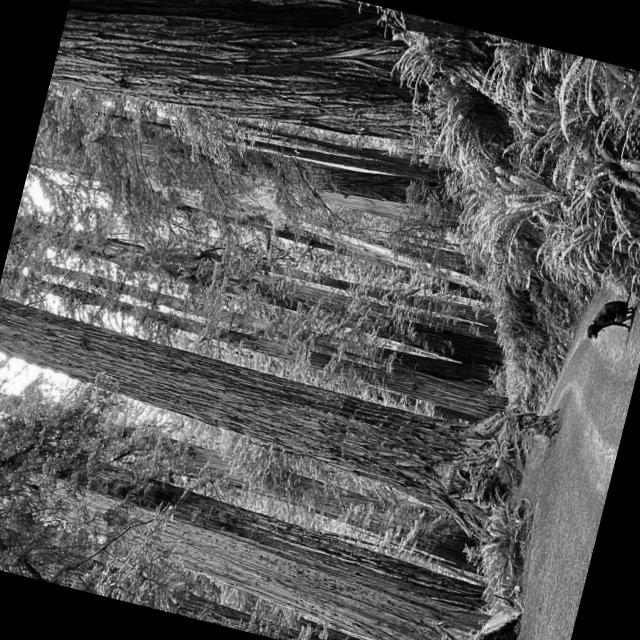squatting: (580, 281, 640, 347)
